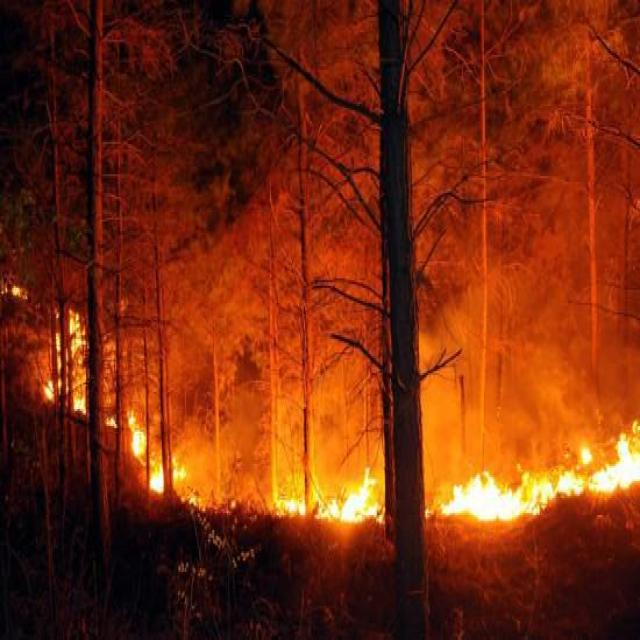fire: (34, 292, 184, 503), (429, 451, 628, 532), (274, 453, 384, 526)
